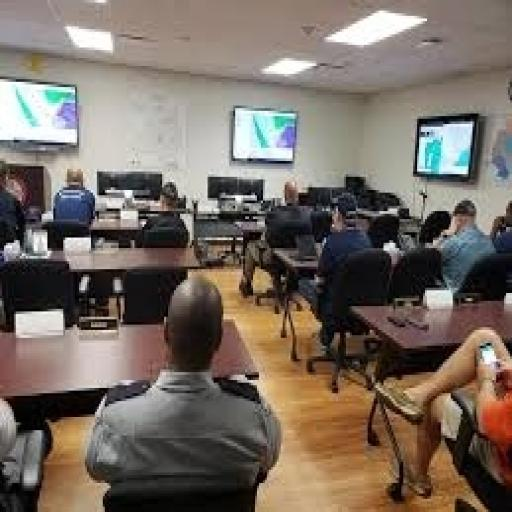sitting: (0, 153, 510, 507), (83, 272, 283, 507)
